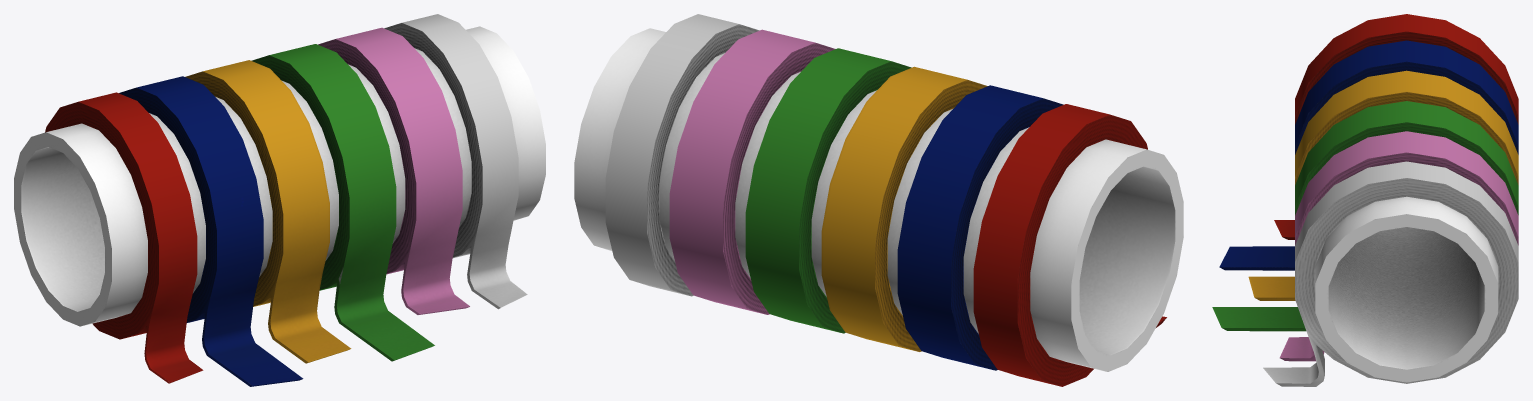
The model's file is ribbon_01.fbx.
3 views of the same model, side by side, from view 1: azimuth 30°, elevation 25°; view 2: azimuth 150°, elevation 25°; view 3: azimuth 270°, elevation 25° (orthographic). The views are drawn at different scales.
Parts seen in each view (by area): view 1: ribbon_01; view 2: ribbon_01; view 3: ribbon_01.
Part boxes in pixels (<box>): ribbon_01: <box>14,14,545,386</box>; ribbon_01: <box>574,14,1183,386</box>; ribbon_01: <box>1212,14,1518,386</box>.
Bounding box in the file's own units: 42.64 × 21.06 × 27.94.
